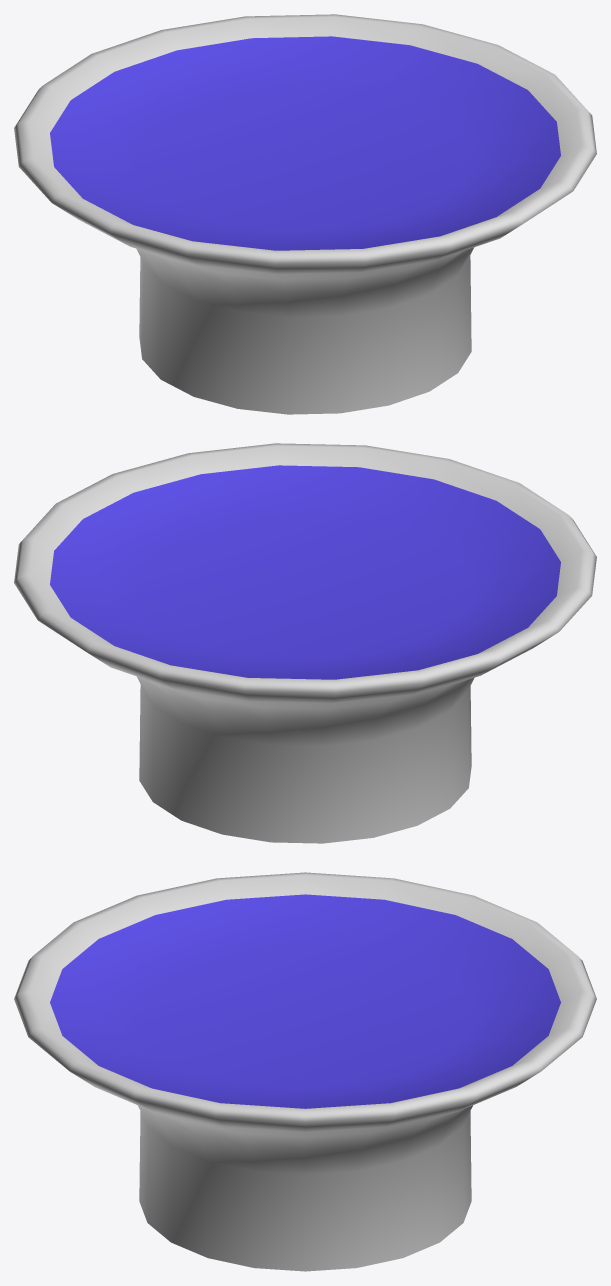
Rendered from mesa_uv.fbx.
3 views of the same model, one above another, from view 1: azimuth 30°, elevation 25°; view 2: azimuth 150°, elevation 25°; view 3: azimuth 270°, elevation 25° (orthographic).
Visible parts, largest first — view 1: mesita; view 2: mesita; view 3: mesita.
Part boxes in pixels (box(x1,y1,x2,y2)): mesita: box(14, 14, 596, 414); mesita: box(14, 443, 596, 843); mesita: box(14, 872, 596, 1271).
Bounding box in the file's own units: 79.28 × 31.4 × 79.28.
